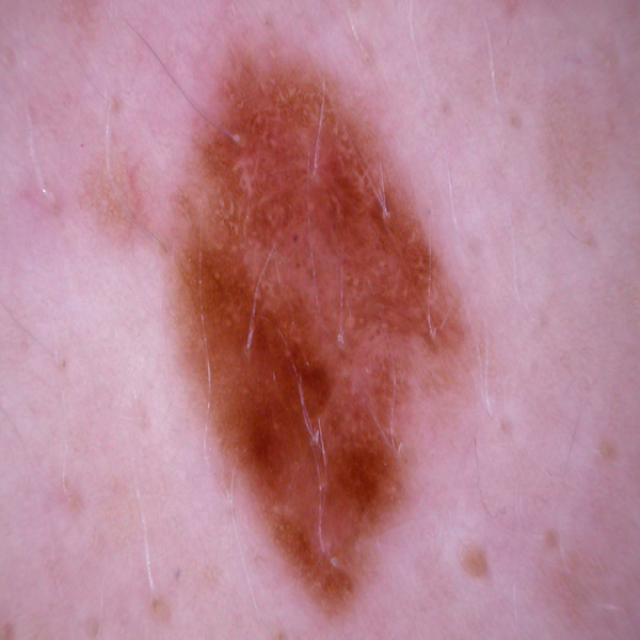NV: (159, 37, 480, 623)
